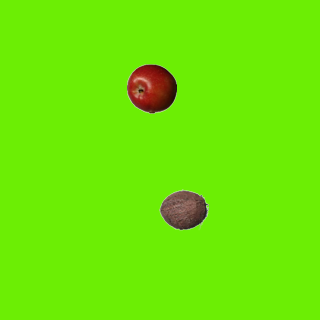Apple Braeburn: (126, 63, 176, 113)
Cocos: (158, 184, 208, 234)
